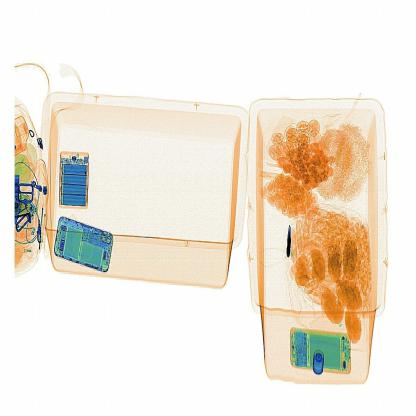wrench: (280, 214, 299, 263)
